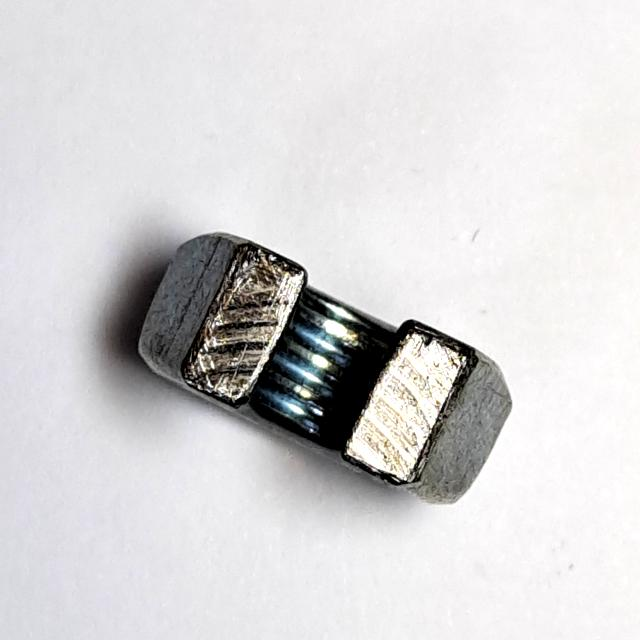Side-Fracture: (128, 212, 531, 524)
